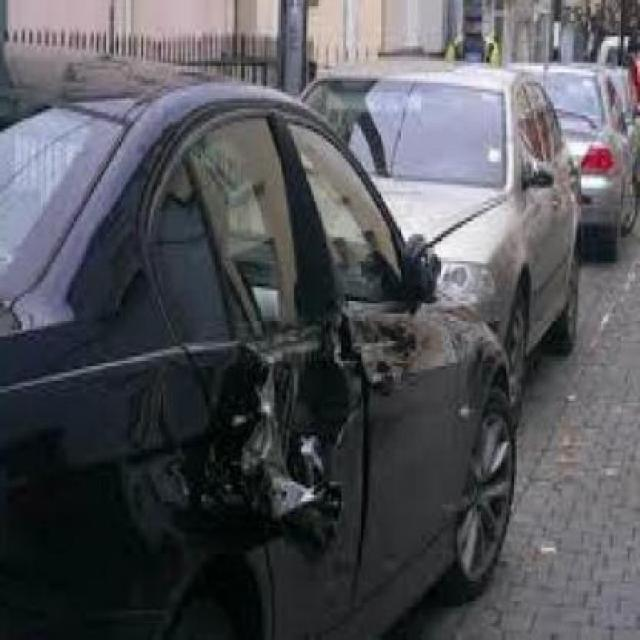damage: (141, 107, 454, 543)
